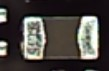COMP: (16, 12, 102, 65)
GAP: (1, 18, 34, 56)
